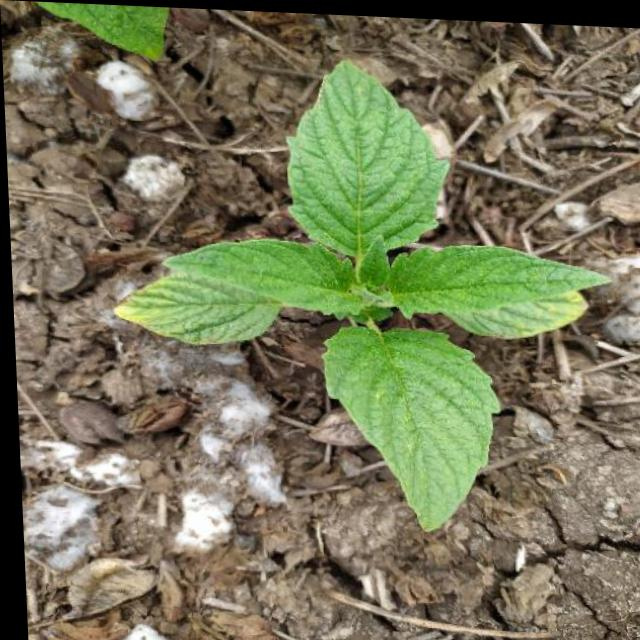crop: (105, 43, 601, 540)
